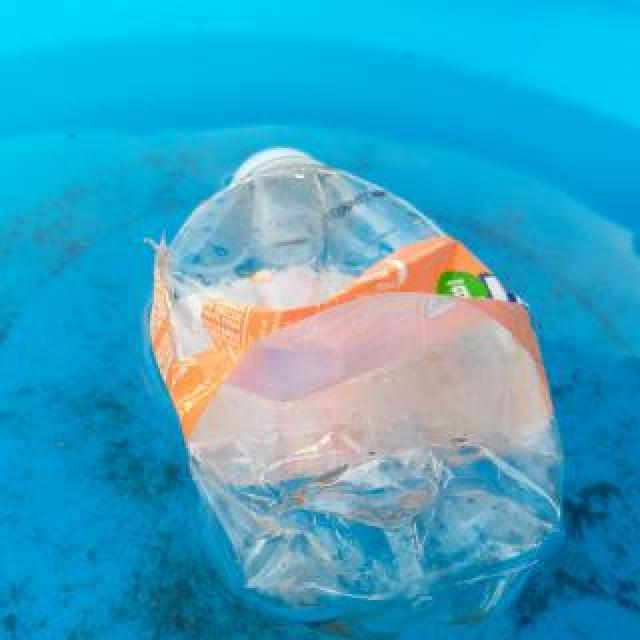Bottle: (137, 139, 569, 612)
